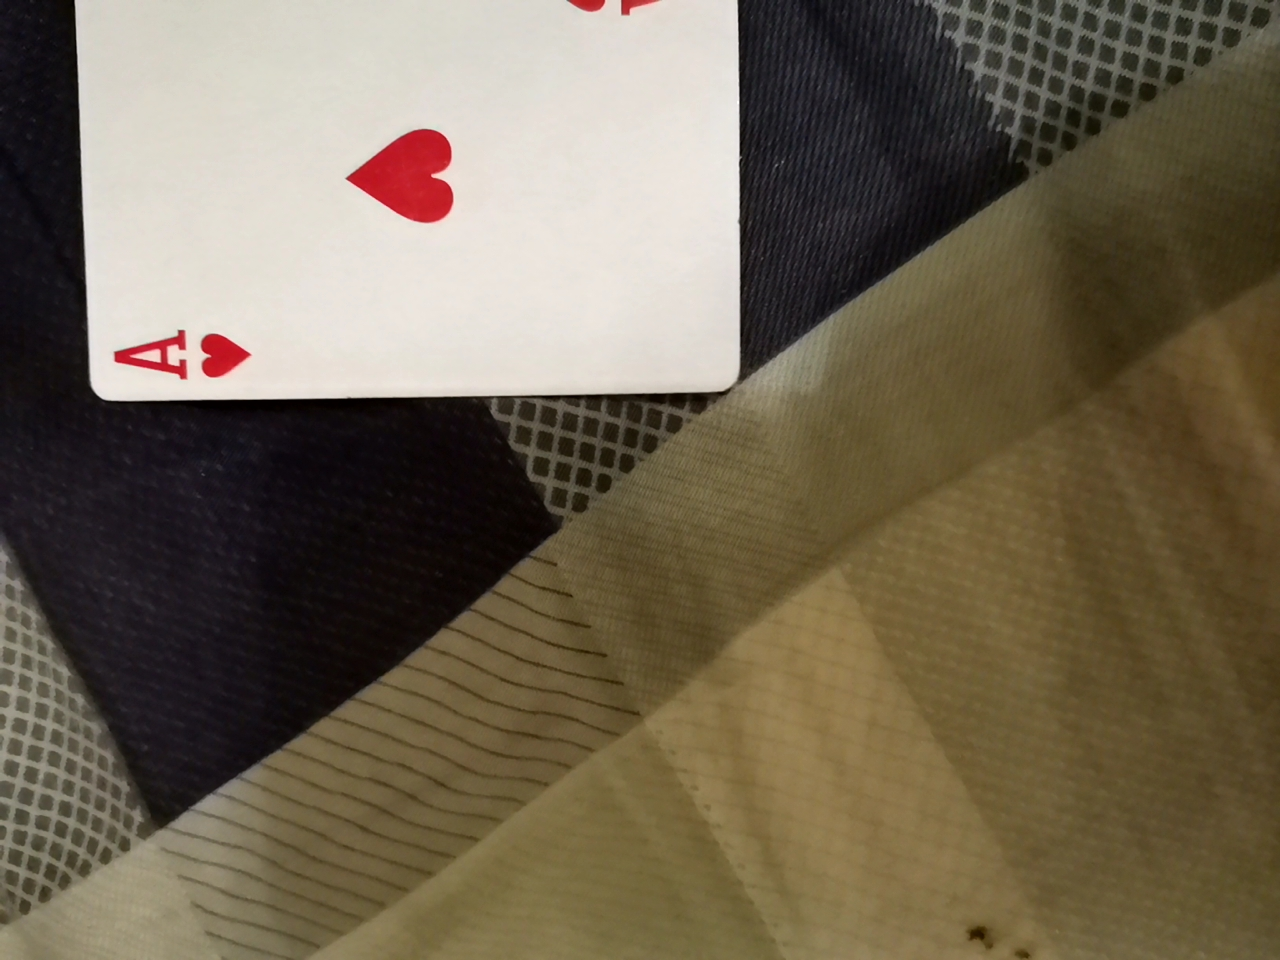hx a: (70, 0, 762, 407)
